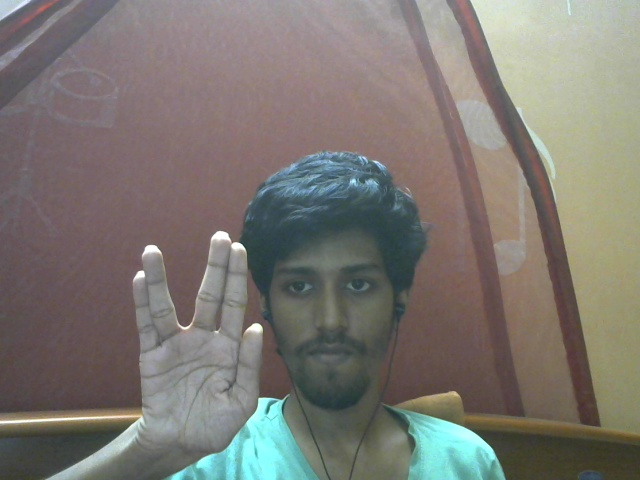LiveLong: (131, 231, 263, 461)
